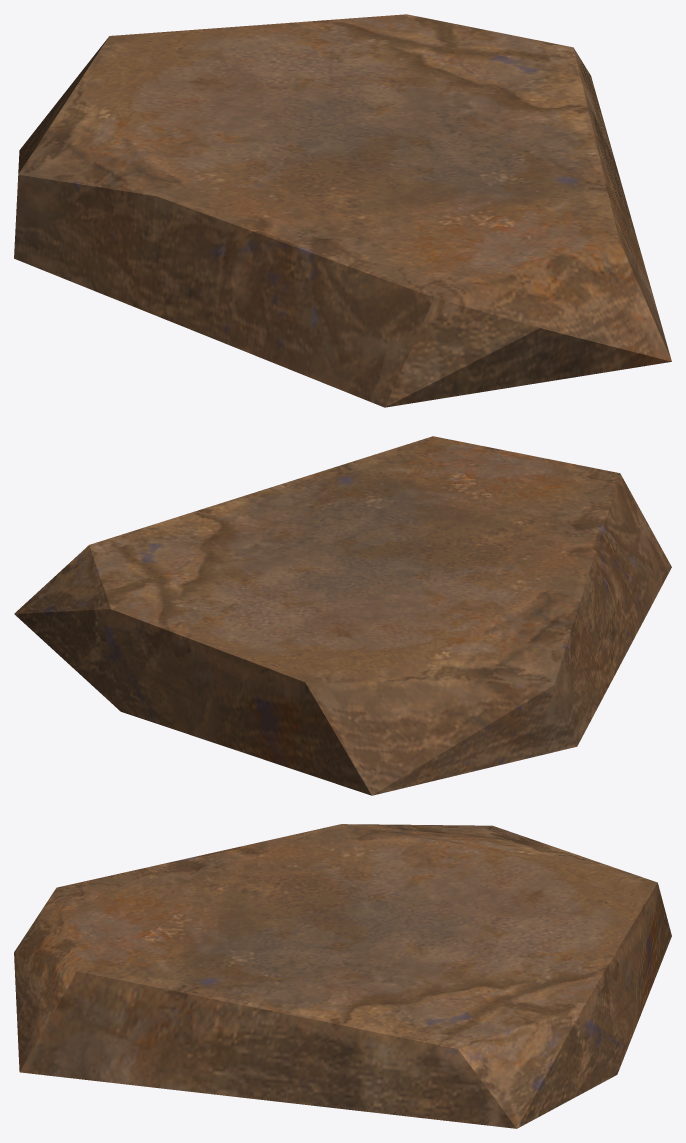
File: Rock_Shales_03_L2.fbx
3 views of the same model, one above another, from view 1: azimuth 30°, elevation 25°; view 2: azimuth 150°, elevation 25°; view 3: azimuth 270°, elevation 25° (orthographic). The views are drawn at different scales.
Parts seen in each view (by area): view 1: polySurface251; view 2: polySurface251; view 3: polySurface251.
Boxes of the visible parts, box(x1,y1,x2,y2) form: polySurface251: box(14, 14, 671, 407); polySurface251: box(14, 436, 671, 795); polySurface251: box(14, 824, 671, 1128).
Bounding box in the file's own units: 81.71 × 14.96 × 86.93.
